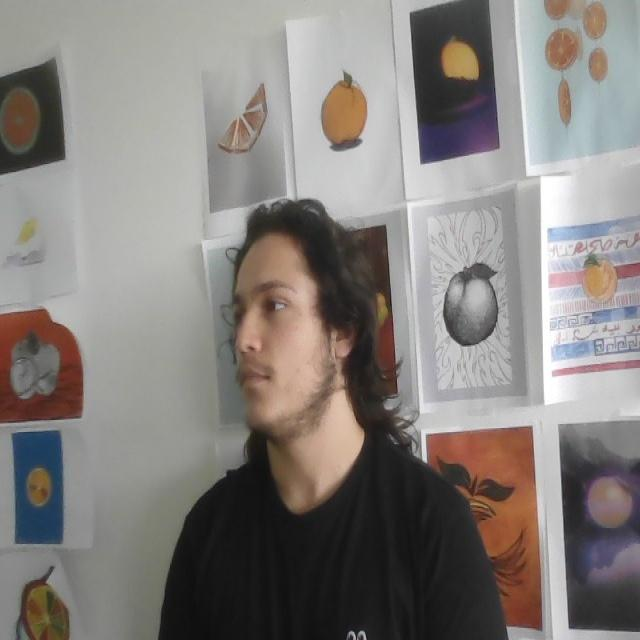opened_eye: (261, 292, 295, 320), (234, 306, 246, 325)
